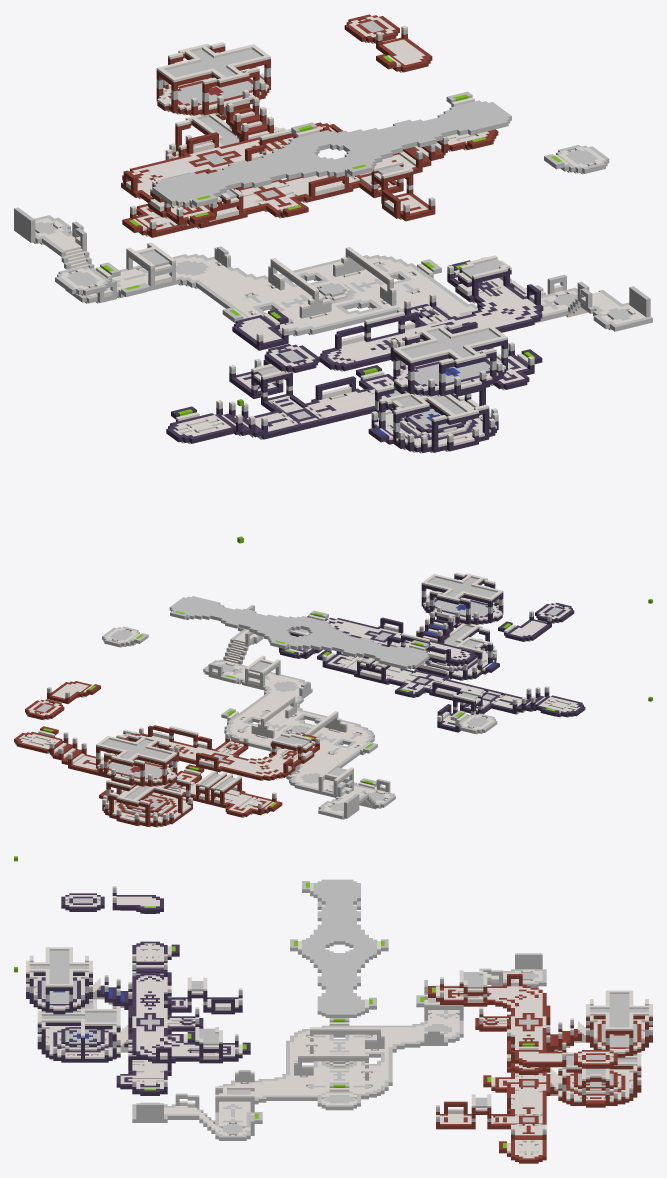
The model's file is minecraft.obj.
3 views of the same model, one above another, from view 1: azimuth 30°, elevation 25°; view 2: azimuth 150°, elevation 25°; view 3: azimuth 270°, elevation 25° (orthographic). The views are drawn at different scales.
Size of the model in its own units: 135 by 40 by 162.
